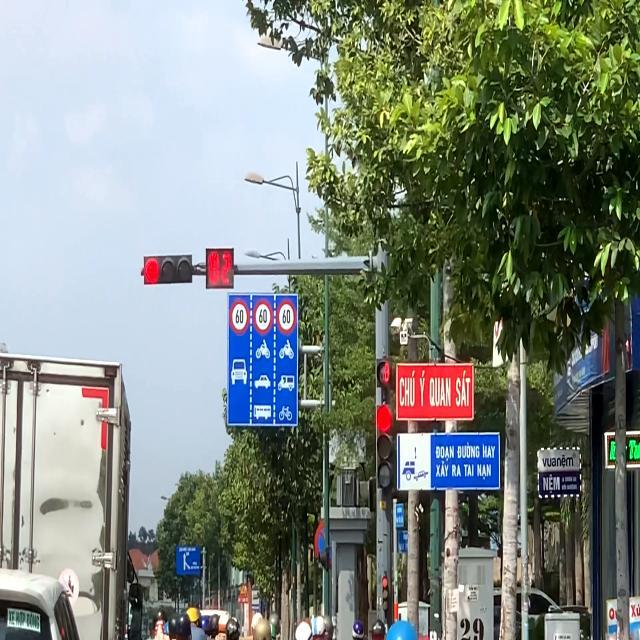P-127c: (228, 294, 300, 426)
